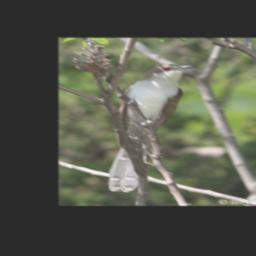Cuckoo: (105, 62, 200, 192)
